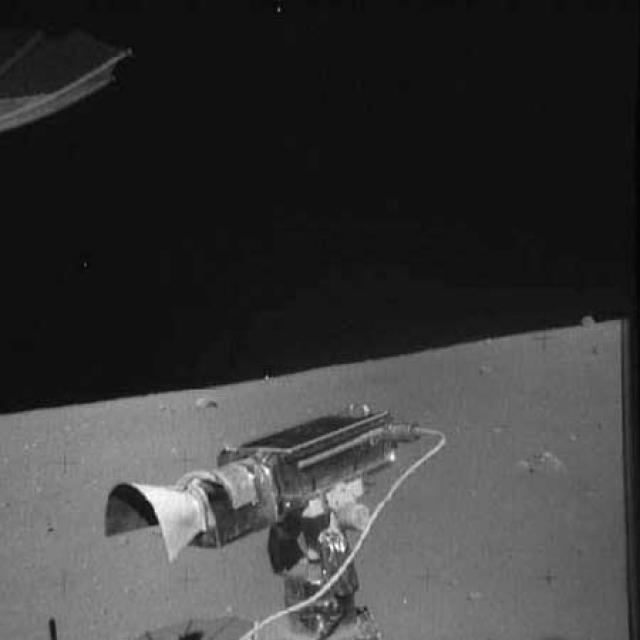rock: (518, 446, 574, 480), (470, 586, 491, 605)
